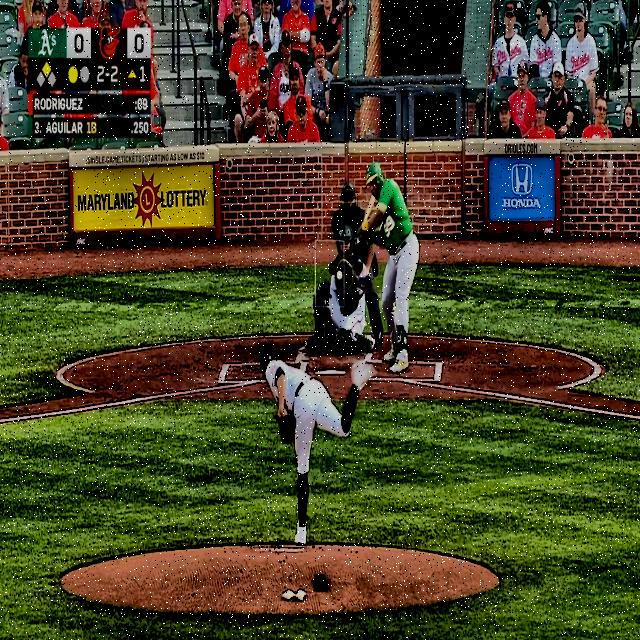baseball: (337, 270, 342, 281)
